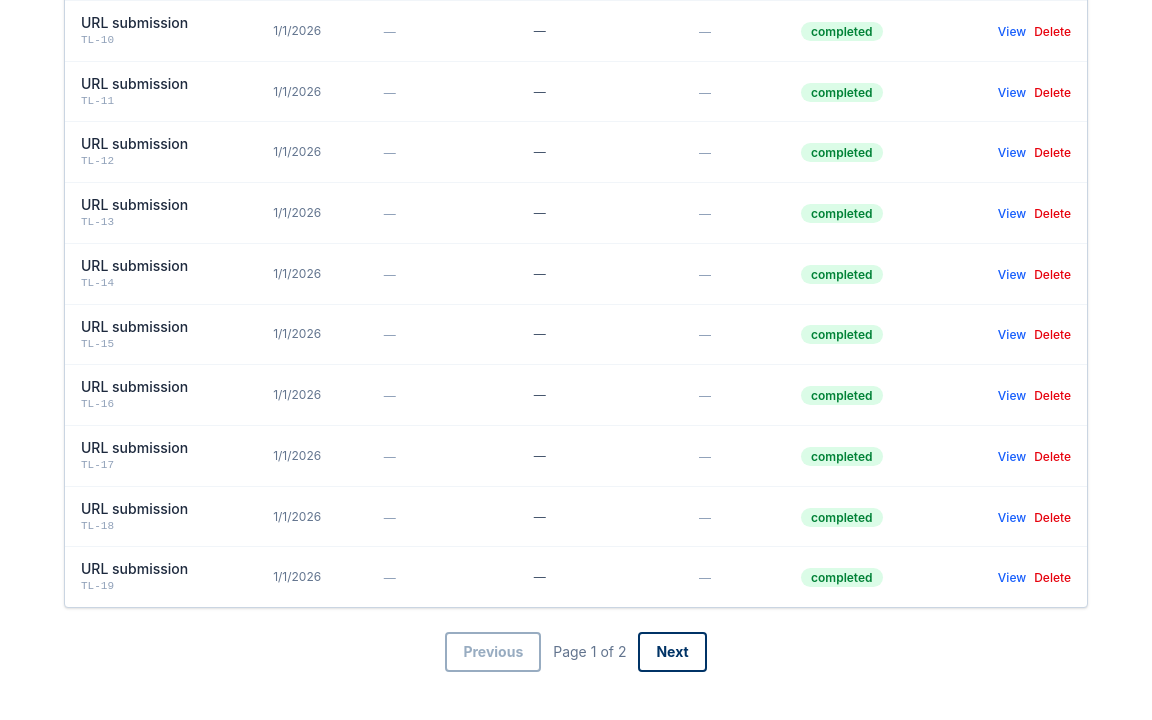
Test case: History › shows pagination when there is more than one page
(page scrolled)
Expected: the text "Page 1 of 2" is shown, [553,642,626,662]
Click the button "Next".
click(672, 652)  # box [638,632,707,672]
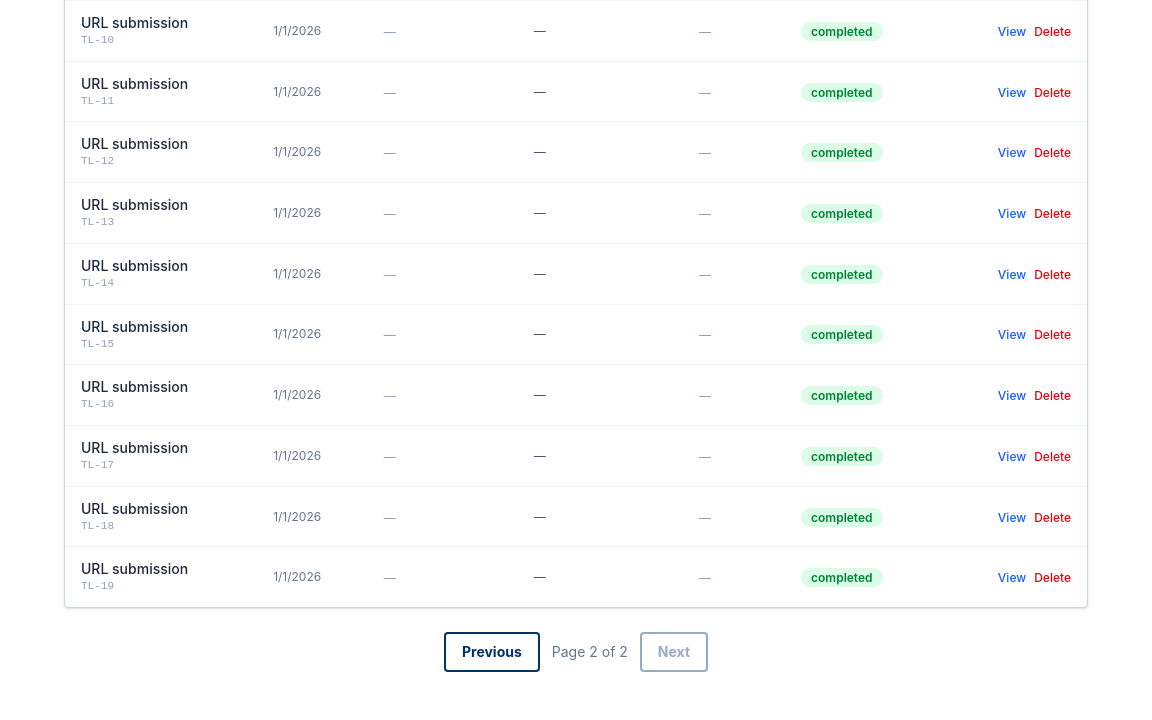
Now the text "Page 2 of 2" is shown, box [552,642,628,662]
